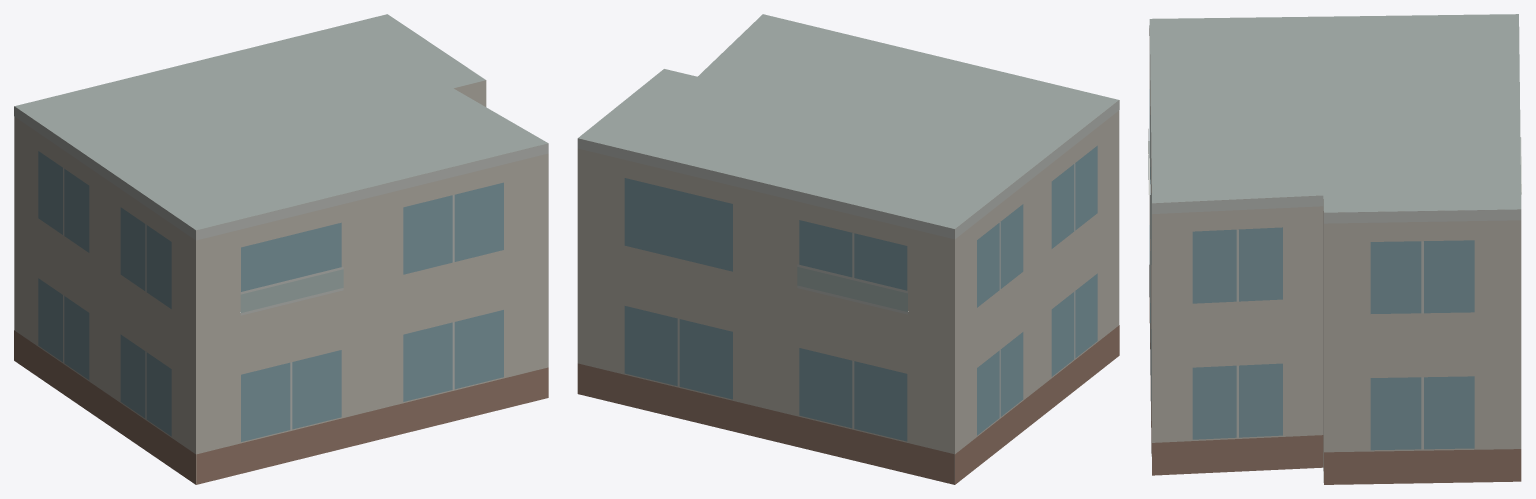
Rendered from survey-upis-32509520.glb.
The picture shows the model from 3 angles, left to right: view 1: azimuth 30°, elevation 25°; view 2: azimuth 150°, elevation 25°; view 3: azimuth 270°, elevation 25°; orthographic projection. The views are drawn at different scales.
Visible parts, largest first — view 1: survey-upis-32509520.tmp; view 2: survey-upis-32509520.tmp; view 3: survey-upis-32509520.tmp.
Part boxes in pixels (x1,y1,x2,y2): survey-upis-32509520.tmp: [14, 14, 548, 484]; survey-upis-32509520.tmp: [577, 14, 1119, 484]; survey-upis-32509520.tmp: [1148, 14, 1521, 484].
Bounding box in the file's own units: 9.56 × 6.1 × 7.6.
